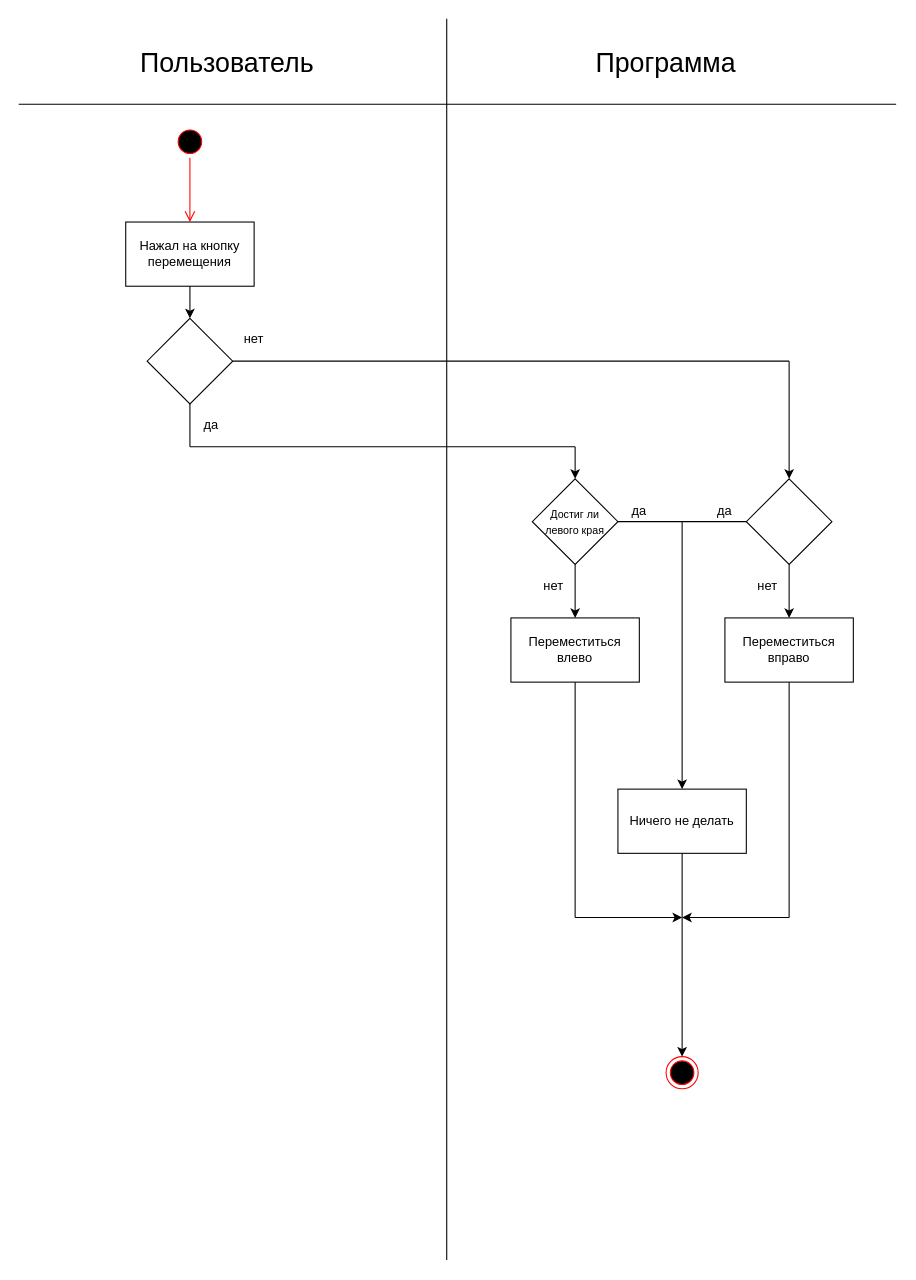
The diagram is 916 pixels wide and 1280 high, and some of its shapes have lost their labels. The centre of each missing label's shape, as x and y in pixels:
"Достиг ли правого края?" belongs at (x=788, y=521).
"Левая стрелка?" belongs at (x=189, y=360).
